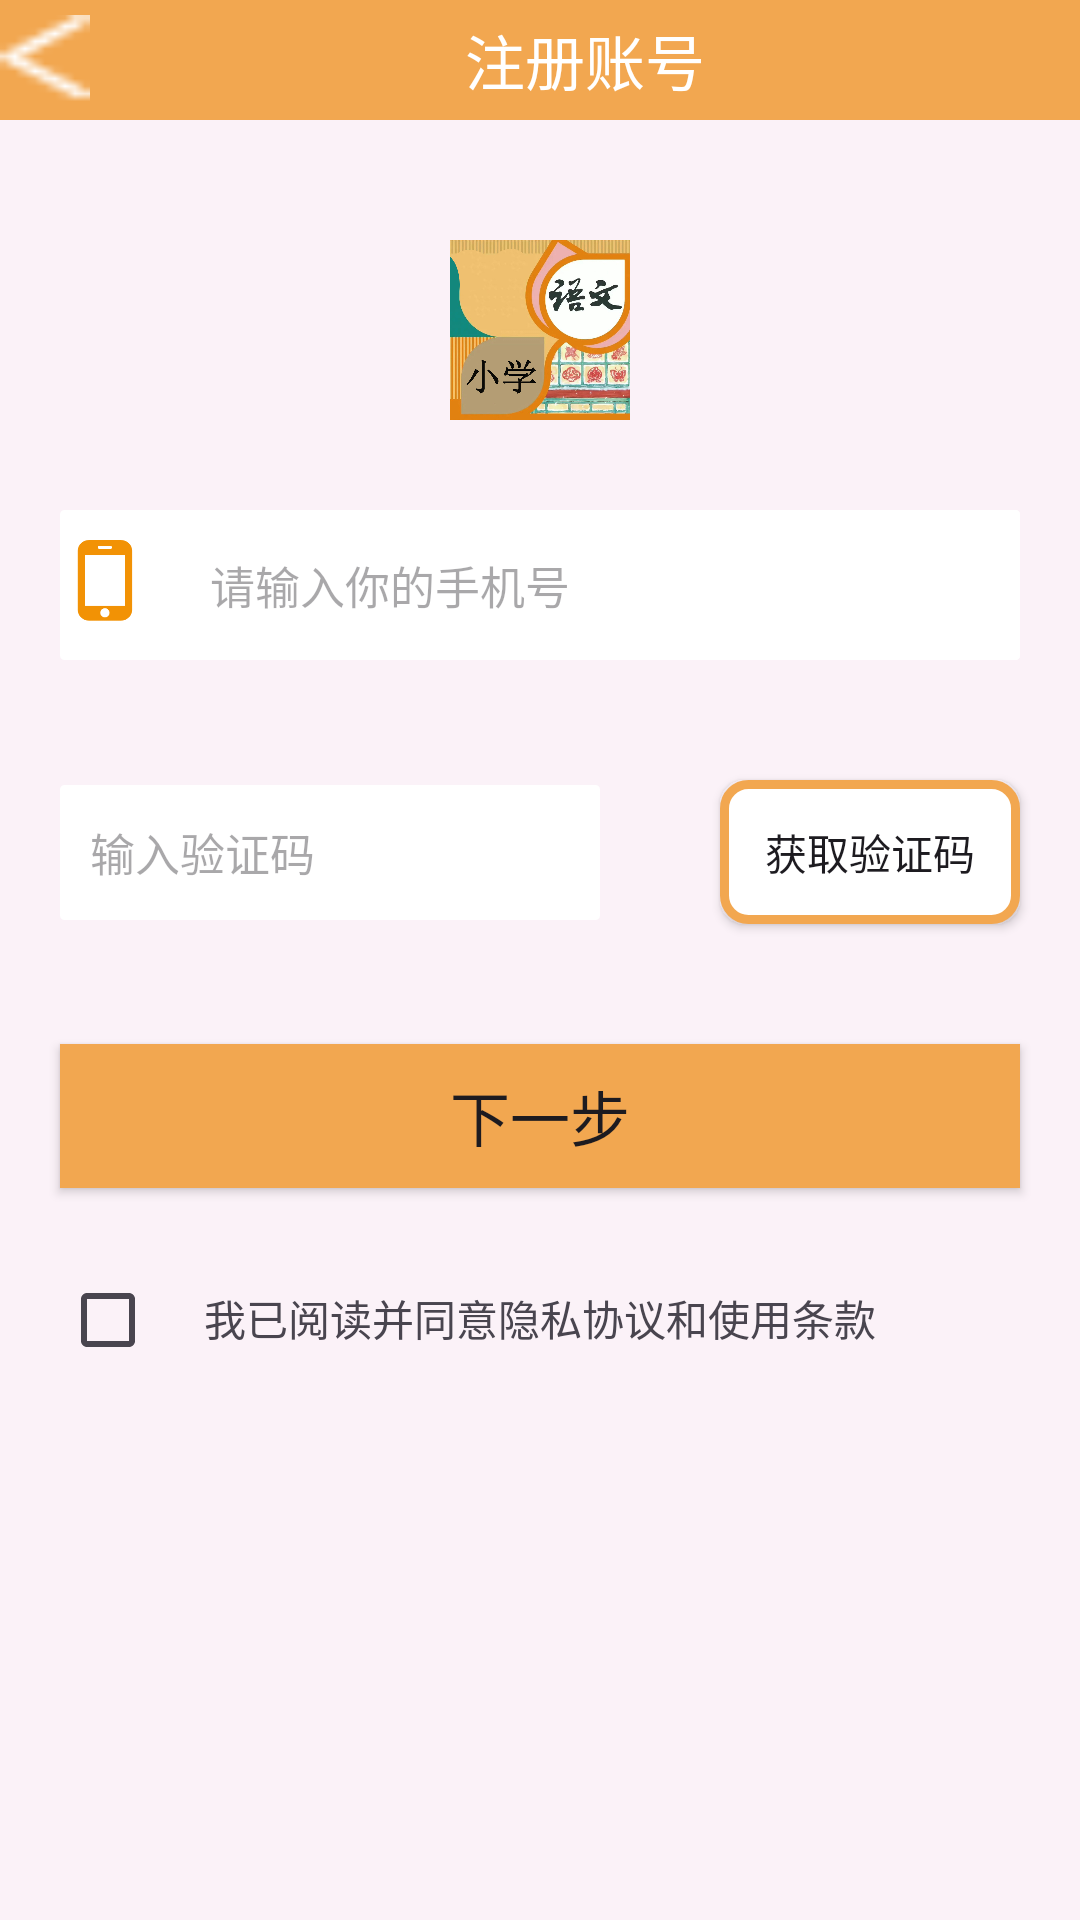

Named icons in this screenshot (1080 x 1920) and their centers, [x,y]:
back: [45,57]
phone: [105,580]
